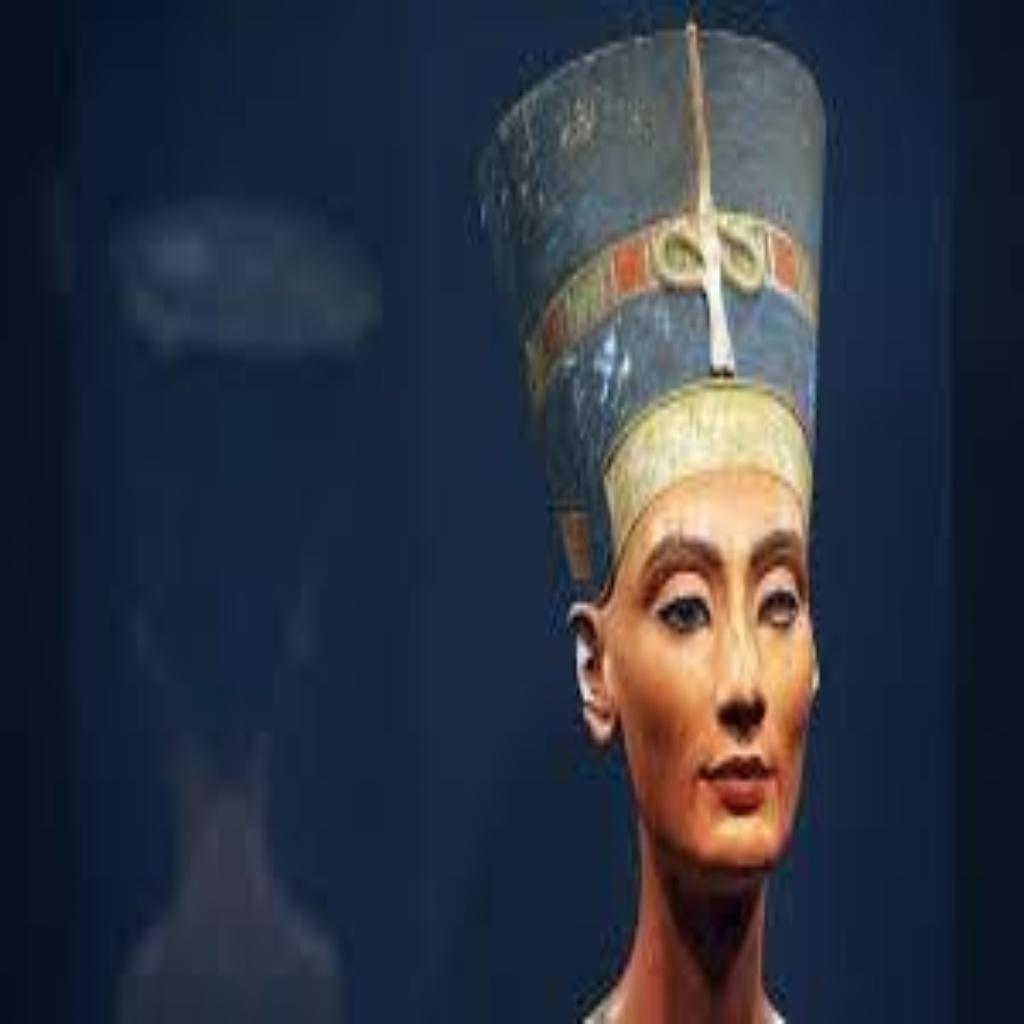Nefertiti: (469, 12, 833, 1018)
